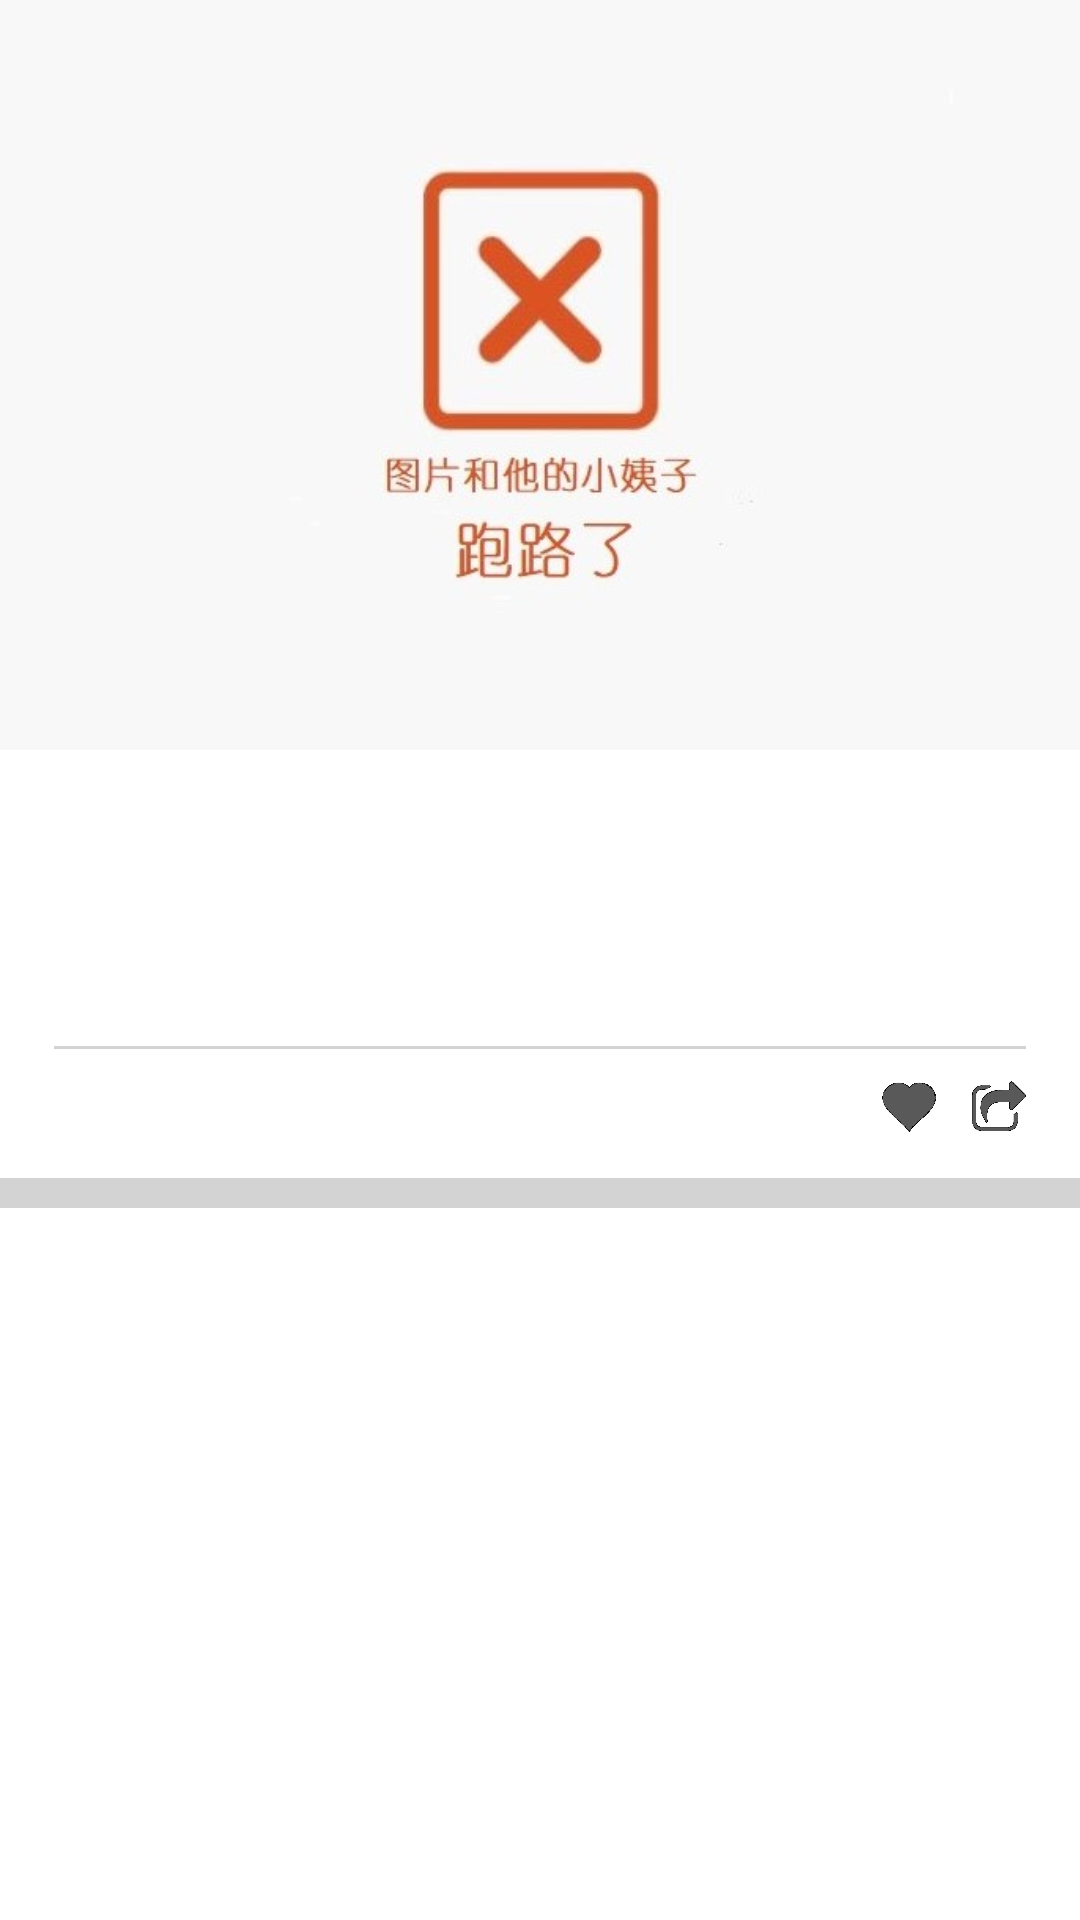

Named icons in this screenshot (1080px×1920px) and their bounding boxes, (x1, y1, x2, y2):
collect: (882, 1082, 936, 1132)
share: (972, 1081, 1026, 1131)
